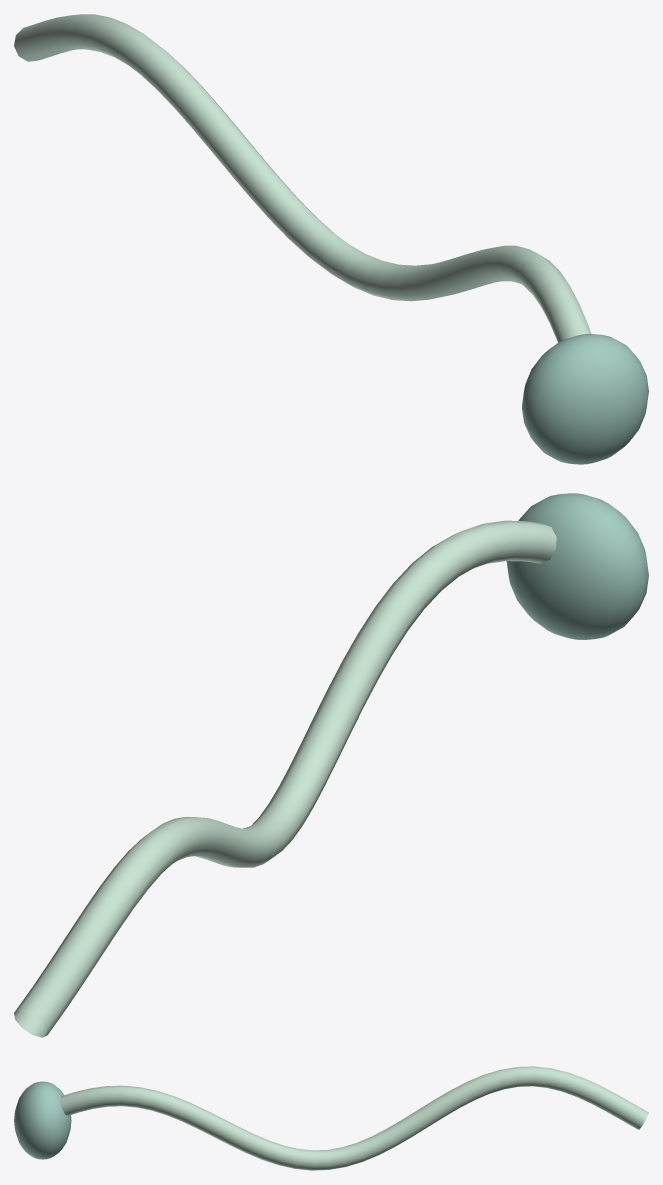
The model's file is pili_module.glb.
3 views of the same model, one above another, from view 1: azimuth 30°, elevation 25°; view 2: azimuth 150°, elevation 25°; view 3: azimuth 270°, elevation 25° (orthographic). The views are drawn at different scales.
Visible parts, largest first — view 1: Pilus_Flexible, Pilus_Anchor; view 2: Pilus_Flexible, Pilus_Anchor; view 3: Pilus_Flexible, Pilus_Anchor.
Boxes of the visible parts, x1,y1,x2,y2 form: Pilus_Flexible: [14, 14, 591, 342]; Pilus_Anchor: [522, 334, 648, 464]; Pilus_Flexible: [14, 520, 556, 1037]; Pilus_Anchor: [506, 493, 648, 639]; Pilus_Flexible: [60, 1066, 648, 1170]; Pilus_Anchor: [14, 1081, 71, 1159].
Size of the model in its own units: 0.098 by 0.1172 by 0.7946.
